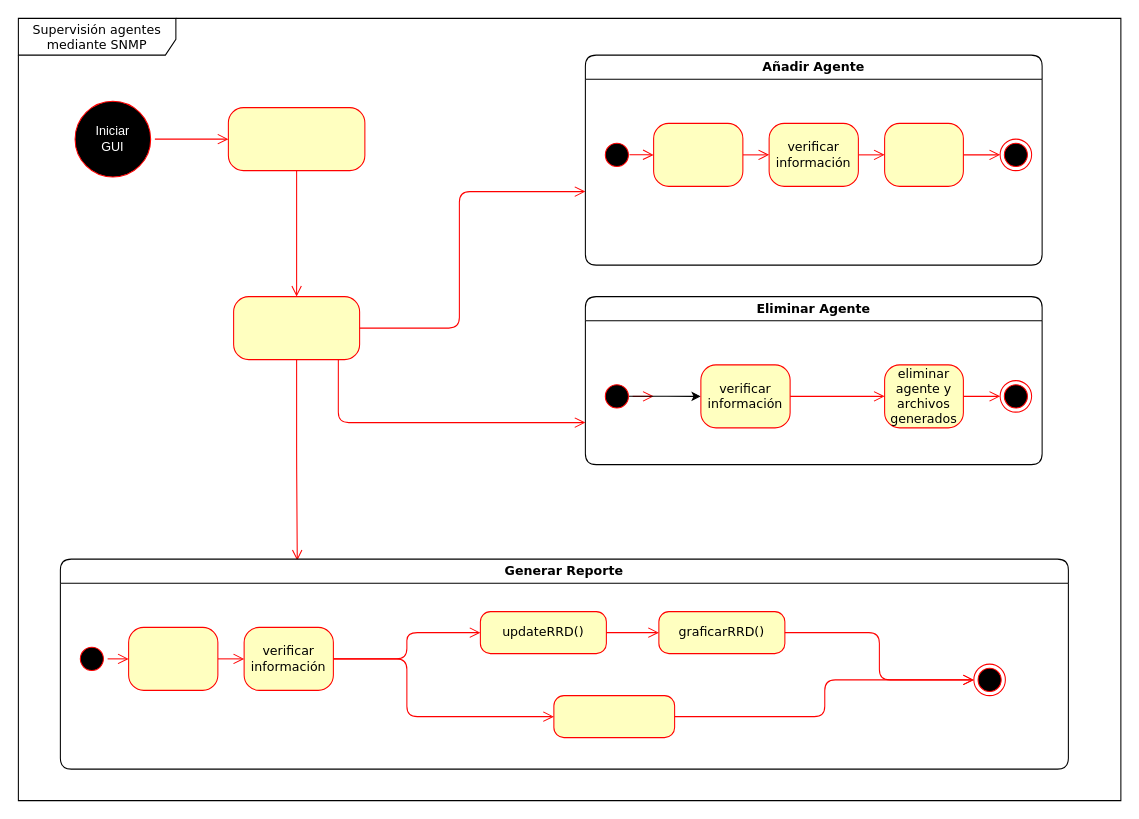
The diagram is 1139 pixels wide and 819 high, and some of its shapes have lost their labels. Here are the shapes that lost their labels. From the top down, the centre of each, then its label:
At pixel 296 139: "actualizarResumen()".
At pixel 698 154: "escribir información".
At pixel 923 154: "guardar en archivo".
At pixel 296 328: "dibujarGUI".
At pixel 173 658: "seleccionar Agente y periodo de tiempo".
At pixel 614 716: "generarReporte()".
